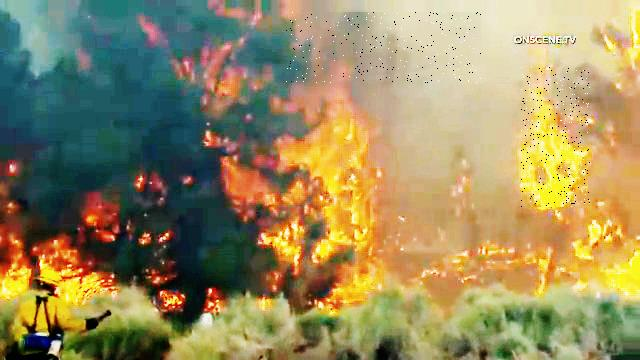fire: (286, 12, 481, 83), (522, 67, 591, 207)
